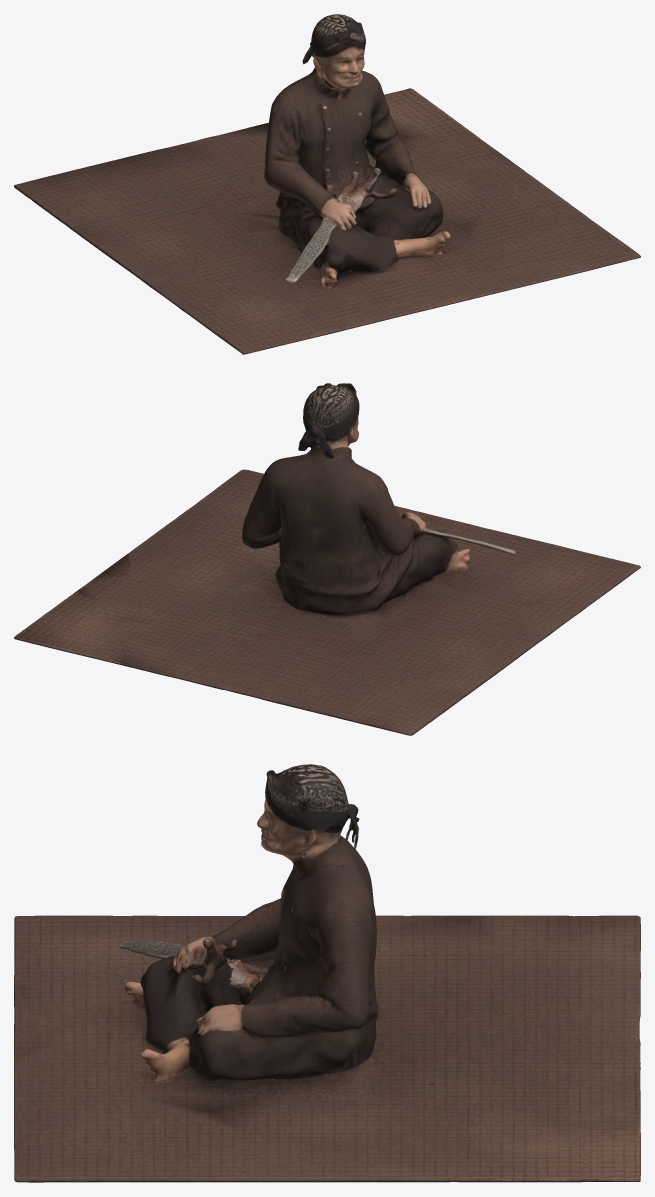
The model's file is bapak-duduk.opt.glb.
3 renders of one model, top to bottom at view 1: azimuth 30°, elevation 25°; view 2: azimuth 150°, elevation 25°; view 3: azimuth 270°, elevation 25°, orthographic. The views are drawn at different scales.
Bounding box in the file's own units: 2 × 1.07 × 2.
Materials: 1 (1 with a texture image).
